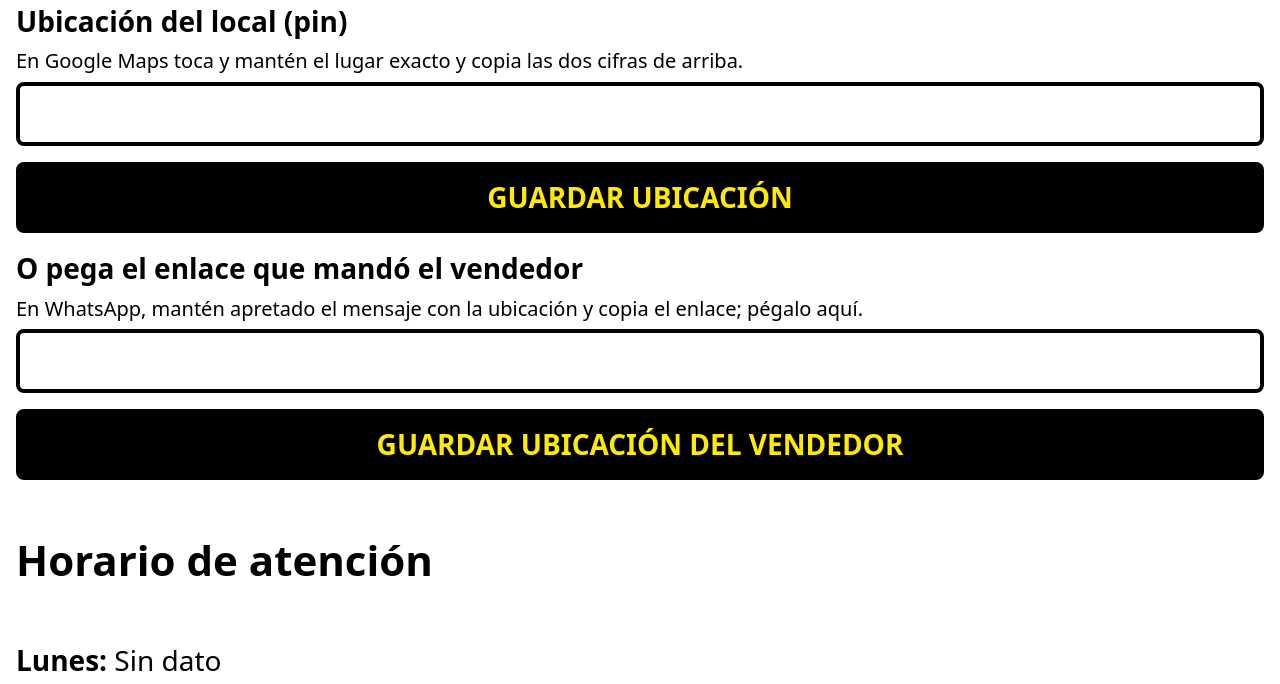
Scenario: pin del local › en la ficha también se pega el enlace que mandó el vendedor
(page scrolled)
In the field labelled "O pega el enlace que mandó el vendedor": (640, 361) [16,329,1264,393], type "https://maps.google.com/?q=-33.5972,-70.7019"
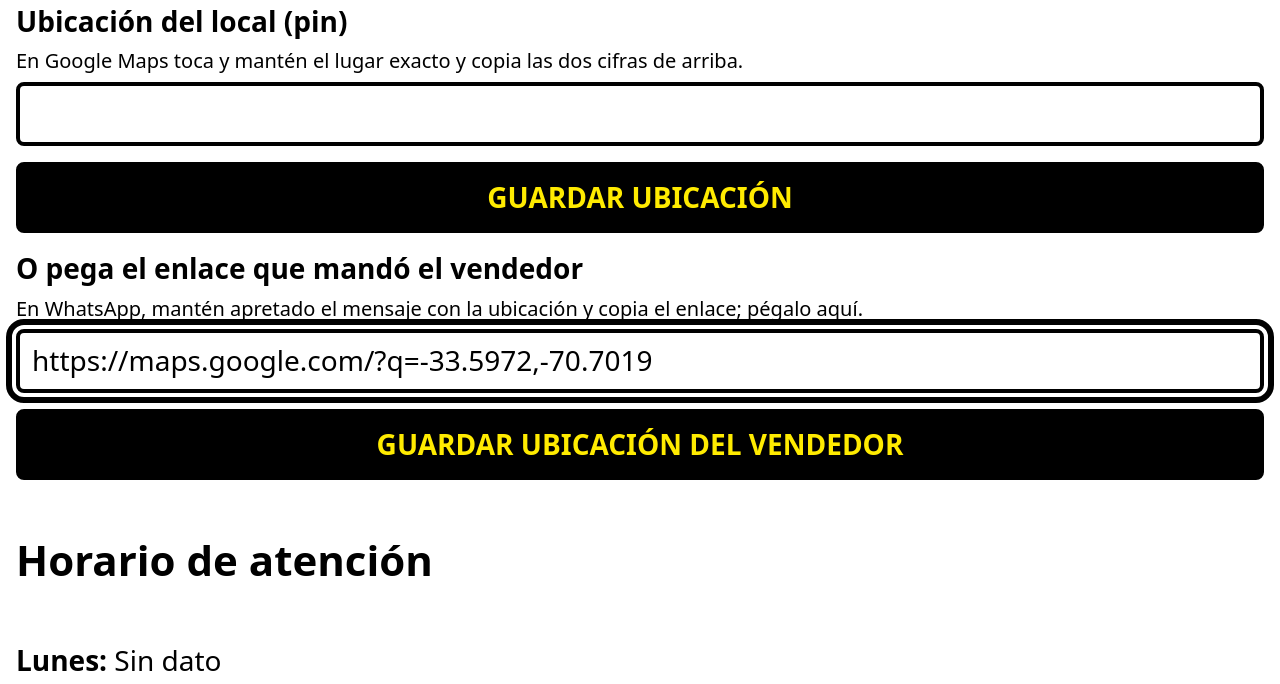
Click the button "GUARDAR UBICACIÓN DEL VENDEDOR": (640, 445) [16,409,1264,480]
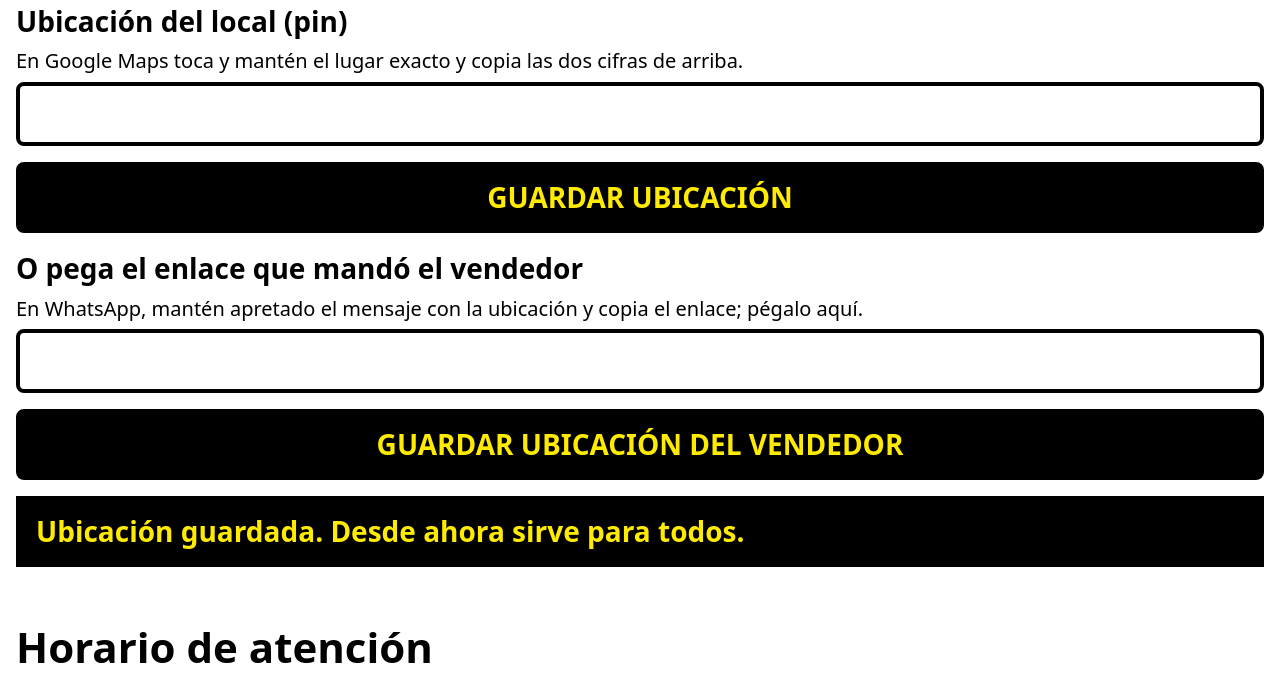
Check: the text "Ubicación guardada. Desde ahora sirve para todos." is shown, box [16,496,1264,567]
